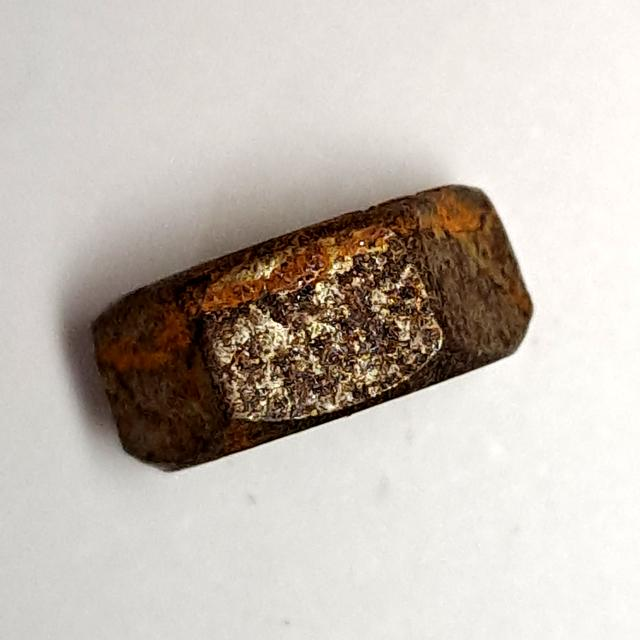Side_Rust: (68, 162, 550, 491)
